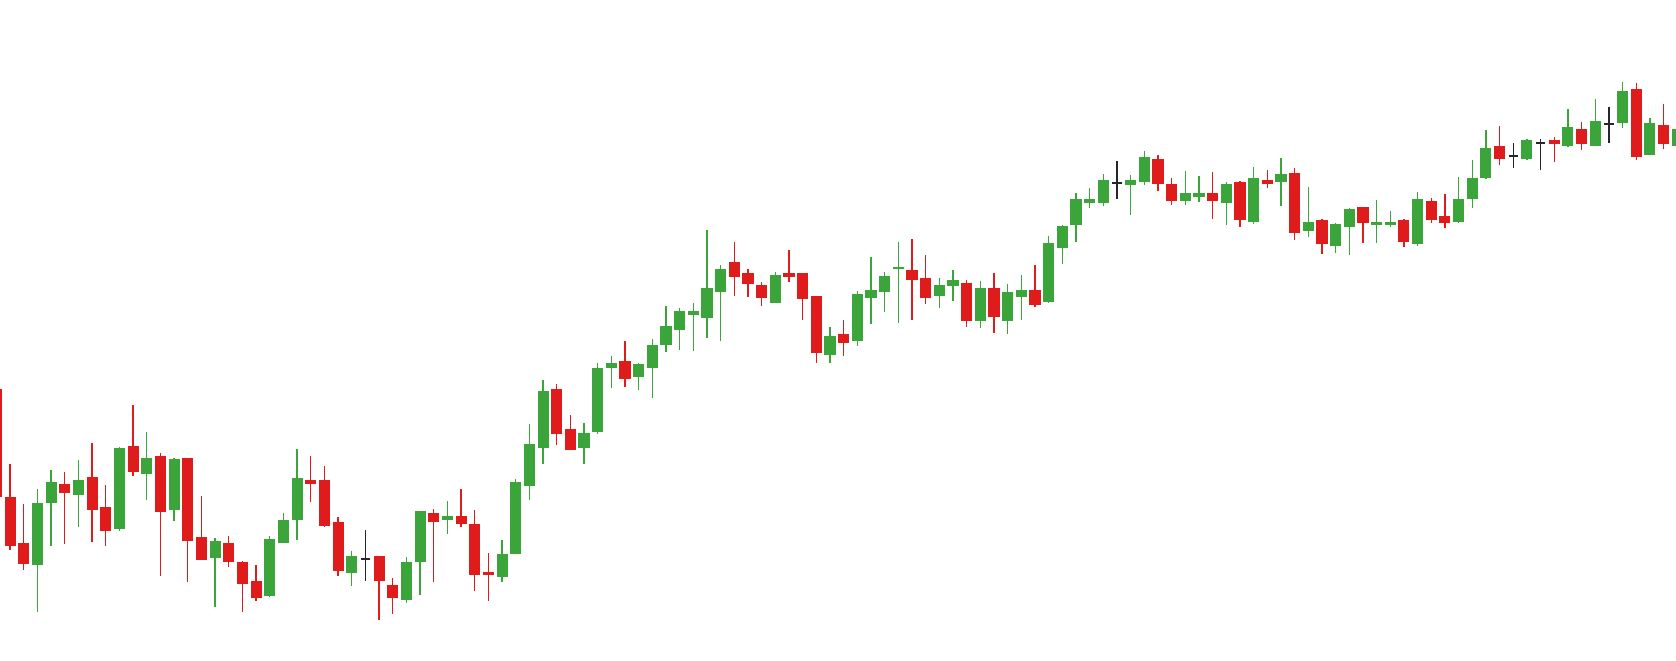buy: (687, 277, 838, 370), (426, 507, 507, 605)
